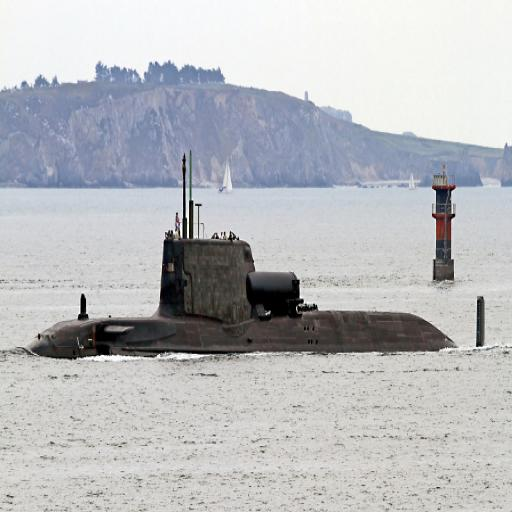submarine: (25, 142, 488, 359)
